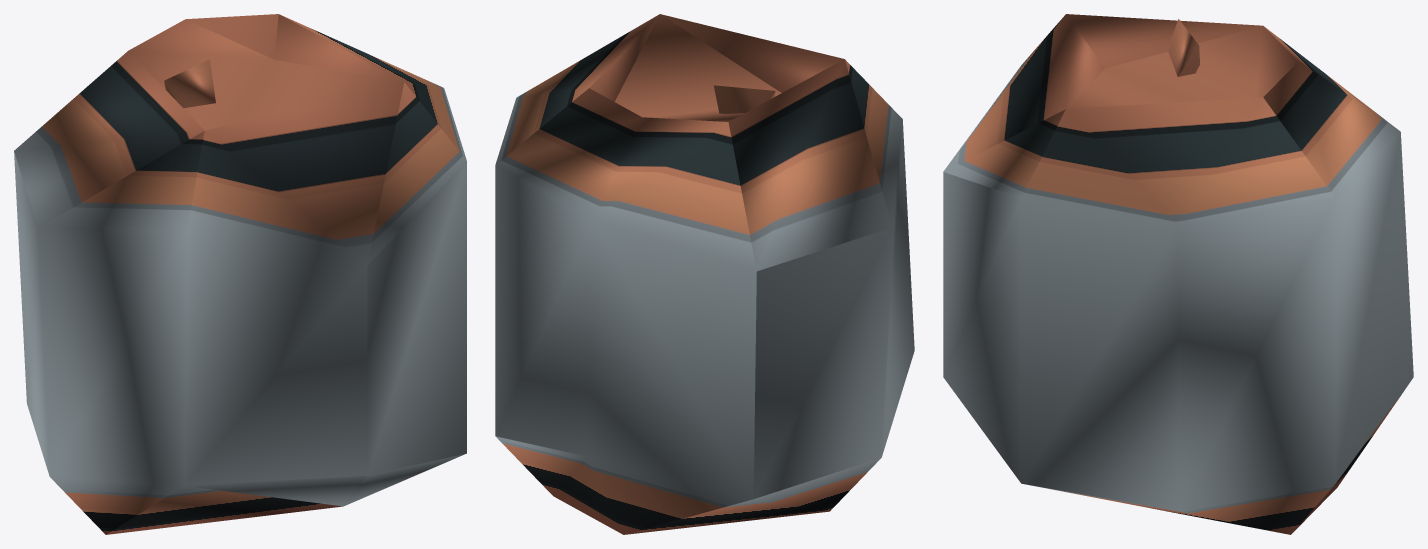
The model's file is barrel_small-small.glb.
The picture shows the model from 3 angles, left to right: view 1: azimuth 30°, elevation 25°; view 2: azimuth 150°, elevation 25°; view 3: azimuth 270°, elevation 25°; orthographic projection. The views are drawn at different scales.
Parts seen in each view (by area): view 1: barrel_small; view 2: barrel_small; view 3: barrel_small.
Boxes of the visible parts, x1=… form: barrel_small: x1=14, y1=14, x2=466, y2=534; barrel_small: x1=495, y1=14, x2=914, y2=534; barrel_small: x1=943, y1=14, x2=1413, y2=534.
Size of the model in its own units: 0.9738 by 1.01 by 1.
1 material, 1 textured.
